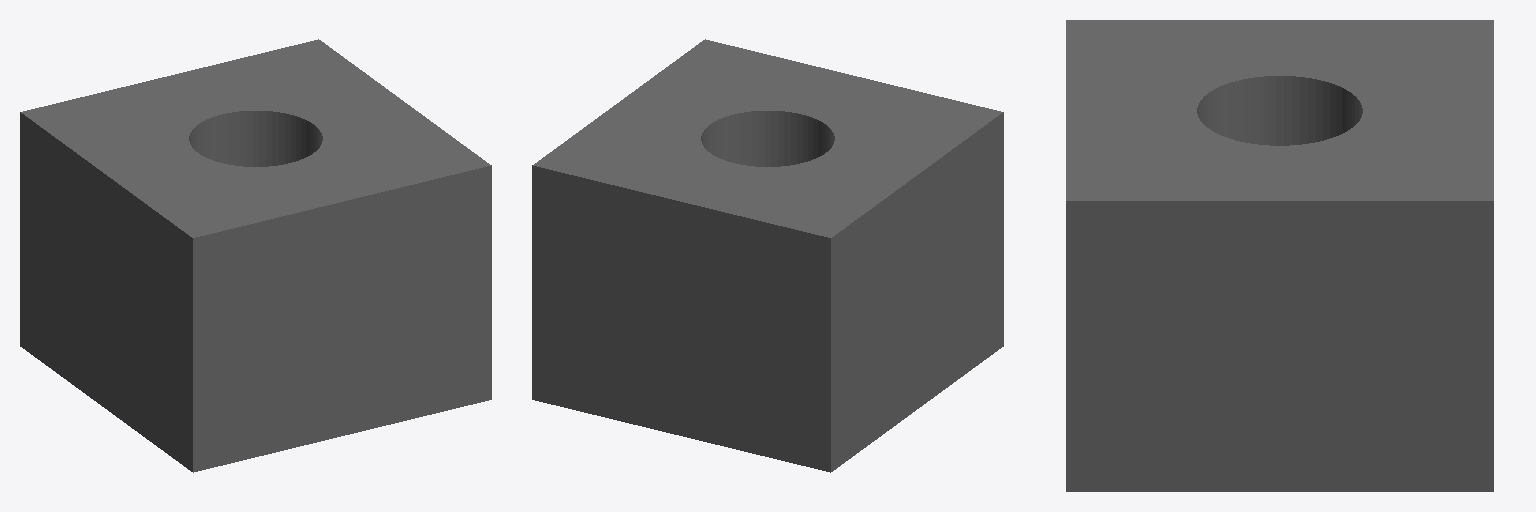
URDF robot description (fmb_circle_hole_tol0p5mm):
<?xml version="1.0"?>
<!-- Hole block for fmb_circle_peg: 80 x 80 mm, 10 mm base + 50 mm walls, hole = peg section offset by 0.5 mm per side. Generated by FoundationTouch tools/fmb_insertion/make_fmb_insertion_assets.py -->
<robot name="fmb_circle_hole_tol0p5mm">
  <material name="c"><color rgba="0.4706 0.4706 0.4706 1.0"/></material>
  <link name="hole">
    <visual><origin xyz="0 0 0" rpy="0 0 0"/><geometry><mesh filename="hole_visual.obj" scale="1 1 1"/></geometry><material name="c"/></visual>
    <collision><origin xyz="0 0 0.0050" rpy="0 0 0"/><geometry><box size="0.08 0.08 0.01"/></geometry></collision>
    <collision><origin xyz="0 0 0" rpy="0 0 0"/><geometry><mesh filename="hole_coll_000.obj" scale="1 1 1"/></geometry></collision>
    <collision><origin xyz="0 0 0" rpy="0 0 0"/><geometry><mesh filename="hole_coll_001.obj" scale="1 1 1"/></geometry></collision>
    <collision><origin xyz="0 0 0" rpy="0 0 0"/><geometry><mesh filename="hole_coll_002.obj" scale="1 1 1"/></geometry></collision>
    <collision><origin xyz="0 0 0" rpy="0 0 0"/><geometry><mesh filename="hole_coll_003.obj" scale="1 1 1"/></geometry></collision>
    <collision><origin xyz="0 0 0" rpy="0 0 0"/><geometry><mesh filename="hole_coll_004.obj" scale="1 1 1"/></geometry></collision>
    <collision><origin xyz="0 0 0" rpy="0 0 0"/><geometry><mesh filename="hole_coll_005.obj" scale="1 1 1"/></geometry></collision>
    <collision><origin xyz="0 0 0" rpy="0 0 0"/><geometry><mesh filename="hole_coll_006.obj" scale="1 1 1"/></geometry></collision>
    <collision><origin xyz="0 0 0" rpy="0 0 0"/><geometry><mesh filename="hole_coll_007.obj" scale="1 1 1"/></geometry></collision>
    <collision><origin xyz="0 0 0" rpy="0 0 0"/><geometry><mesh filename="hole_coll_008.obj" scale="1 1 1"/></geometry></collision>
    <collision><origin xyz="0 0 0" rpy="0 0 0"/><geometry><mesh filename="hole_coll_009.obj" scale="1 1 1"/></geometry></collision>
    <collision><origin xyz="0 0 0" rpy="0 0 0"/><geometry><mesh filename="hole_coll_010.obj" scale="1 1 1"/></geometry></collision>
    <collision><origin xyz="0 0 0" rpy="0 0 0"/><geometry><mesh filename="hole_coll_011.obj" scale="1 1 1"/></geometry></collision>
    <collision><origin xyz="0 0 0" rpy="0 0 0"/><geometry><mesh filename="hole_coll_012.obj" scale="1 1 1"/></geometry></collision>
    <collision><origin xyz="0 0 0" rpy="0 0 0"/><geometry><mesh filename="hole_coll_013.obj" scale="1 1 1"/></geometry></collision>
    <collision><origin xyz="0 0 0" rpy="0 0 0"/><geometry><mesh filename="hole_coll_014.obj" scale="1 1 1"/></geometry></collision>
    <collision><origin xyz="0 0 0" rpy="0 0 0"/><geometry><mesh filename="hole_coll_015.obj" scale="1 1 1"/></geometry></collision>
    <collision><origin xyz="0 0 0" rpy="0 0 0"/><geometry><mesh filename="hole_coll_016.obj" scale="1 1 1"/></geometry></collision>
    <collision><origin xyz="0 0 0" rpy="0 0 0"/><geometry><mesh filename="hole_coll_017.obj" scale="1 1 1"/></geometry></collision>
    <collision><origin xyz="0 0 0" rpy="0 0 0"/><geometry><mesh filename="hole_coll_018.obj" scale="1 1 1"/></geometry></collision>
    <collision><origin xyz="0 0 0" rpy="0 0 0"/><geometry><mesh filename="hole_coll_019.obj" scale="1 1 1"/></geometry></collision>
    <collision><origin xyz="0 0 0" rpy="0 0 0"/><geometry><mesh filename="hole_coll_020.obj" scale="1 1 1"/></geometry></collision>
    <collision><origin xyz="0 0 0" rpy="0 0 0"/><geometry><mesh filename="hole_coll_021.obj" scale="1 1 1"/></geometry></collision>
    <collision><origin xyz="0 0 0" rpy="0 0 0"/><geometry><mesh filename="hole_coll_022.obj" scale="1 1 1"/></geometry></collision>
    <collision><origin xyz="0 0 0" rpy="0 0 0"/><geometry><mesh filename="hole_coll_023.obj" scale="1 1 1"/></geometry></collision>
    <collision><origin xyz="0 0 0" rpy="0 0 0"/><geometry><mesh filename="hole_coll_024.obj" scale="1 1 1"/></geometry></collision>
    <collision><origin xyz="0 0 0" rpy="0 0 0"/><geometry><mesh filename="hole_coll_025.obj" scale="1 1 1"/></geometry></collision>
    <collision><origin xyz="0 0 0" rpy="0 0 0"/><geometry><mesh filename="hole_coll_026.obj" scale="1 1 1"/></geometry></collision>
    <collision><origin xyz="0 0 0" rpy="0 0 0"/><geometry><mesh filename="hole_coll_027.obj" scale="1 1 1"/></geometry></collision>
    <collision><origin xyz="0 0 0" rpy="0 0 0"/><geometry><mesh filename="hole_coll_028.obj" scale="1 1 1"/></geometry></collision>
    <collision><origin xyz="0 0 0" rpy="0 0 0"/><geometry><mesh filename="hole_coll_029.obj" scale="1 1 1"/></geometry></collision>
    <collision><origin xyz="0 0 0" rpy="0 0 0"/><geometry><mesh filename="hole_coll_030.obj" scale="1 1 1"/></geometry></collision>
    <collision><origin xyz="0 0 0" rpy="0 0 0"/><geometry><mesh filename="hole_coll_031.obj" scale="1 1 1"/></geometry></collision>
    <collision><origin xyz="0 0 0" rpy="0 0 0"/><geometry><mesh filename="hole_coll_032.obj" scale="1 1 1"/></geometry></collision>
    <collision><origin xyz="0 0 0" rpy="0 0 0"/><geometry><mesh filename="hole_coll_033.obj" scale="1 1 1"/></geometry></collision>
    <collision><origin xyz="0 0 0" rpy="0 0 0"/><geometry><mesh filename="hole_coll_034.obj" scale="1 1 1"/></geometry></collision>
    <collision><origin xyz="0 0 0" rpy="0 0 0"/><geometry><mesh filename="hole_coll_035.obj" scale="1 1 1"/></geometry></collision>
    <collision><origin xyz="0 0 0" rpy="0 0 0"/><geometry><mesh filename="hole_coll_036.obj" scale="1 1 1"/></geometry></collision>
    <collision><origin xyz="0 0 0" rpy="0 0 0"/><geometry><mesh filename="hole_coll_037.obj" scale="1 1 1"/></geometry></collision>
    <collision><origin xyz="0 0 0" rpy="0 0 0"/><geometry><mesh filename="hole_coll_038.obj" scale="1 1 1"/></geometry></collision>
    <collision><origin xyz="0 0 0" rpy="0 0 0"/><geometry><mesh filename="hole_coll_039.obj" scale="1 1 1"/></geometry></collision>
    <collision><origin xyz="0 0 0" rpy="0 0 0"/><geometry><mesh filename="hole_coll_040.obj" scale="1 1 1"/></geometry></collision>
    <collision><origin xyz="0 0 0" rpy="0 0 0"/><geometry><mesh filename="hole_coll_041.obj" scale="1 1 1"/></geometry></collision>
    <collision><origin xyz="0 0 0" rpy="0 0 0"/><geometry><mesh filename="hole_coll_042.obj" scale="1 1 1"/></geometry></collision>
    <collision><origin xyz="0 0 0" rpy="0 0 0"/><geometry><mesh filename="hole_coll_043.obj" scale="1 1 1"/></geometry></collision>
    <collision><origin xyz="0 0 0" rpy="0 0 0"/><geometry><mesh filename="hole_coll_044.obj" scale="1 1 1"/></geometry></collision>
    <collision><origin xyz="0 0 0" rpy="0 0 0"/><geometry><mesh filename="hole_coll_045.obj" scale="1 1 1"/></geometry></collision>
    <collision><origin xyz="0 0 0" rpy="0 0 0"/><geometry><mesh filename="hole_coll_046.obj" scale="1 1 1"/></geometry></collision>
    <collision><origin xyz="0 0 0" rpy="0 0 0"/><geometry><mesh filename="hole_coll_047.obj" scale="1 1 1"/></geometry></collision>
    <collision><origin xyz="0 0 0" rpy="0 0 0"/><geometry><mesh filename="hole_coll_048.obj" scale="1 1 1"/></geometry></collision>
    <collision><origin xyz="0 0 0" rpy="0 0 0"/><geometry><mesh filename="hole_coll_049.obj" scale="1 1 1"/></geometry></collision>
    <collision><origin xyz="0 0 0" rpy="0 0 0"/><geometry><mesh filename="hole_coll_050.obj" scale="1 1 1"/></geometry></collision>
    <collision><origin xyz="0 0 0" rpy="0 0 0"/><geometry><mesh filename="hole_coll_051.obj" scale="1 1 1"/></geometry></collision>
    <collision><origin xyz="0 0 0" rpy="0 0 0"/><geometry><mesh filename="hole_coll_052.obj" scale="1 1 1"/></geometry></collision>
    <collision><origin xyz="0 0 0" rpy="0 0 0"/><geometry><mesh filename="hole_coll_053.obj" scale="1 1 1"/></geometry></collision>
    <collision><origin xyz="0 0 0" rpy="0 0 0"/><geometry><mesh filename="hole_coll_054.obj" scale="1 1 1"/></geometry></collision>
    <collision><origin xyz="0 0 0" rpy="0 0 0"/><geometry><mesh filename="hole_coll_055.obj" scale="1 1 1"/></geometry></collision>
    <collision><origin xyz="0 0 0" rpy="0 0 0"/><geometry><mesh filename="hole_coll_056.obj" scale="1 1 1"/></geometry></collision>
    <collision><origin xyz="0 0 0" rpy="0 0 0"/><geometry><mesh filename="hole_coll_057.obj" scale="1 1 1"/></geometry></collision>
    <collision><origin xyz="0 0 0" rpy="0 0 0"/><geometry><mesh filename="hole_coll_058.obj" scale="1 1 1"/></geometry></collision>
    <collision><origin xyz="0 0 0" rpy="0 0 0"/><geometry><mesh filename="hole_coll_059.obj" scale="1 1 1"/></geometry></collision>
    <collision><origin xyz="0 0 0" rpy="0 0 0"/><geometry><mesh filename="hole_coll_060.obj" scale="1 1 1"/></geometry></collision>
    <collision><origin xyz="0 0 0" rpy="0 0 0"/><geometry><mesh filename="hole_coll_061.obj" scale="1 1 1"/></geometry></collision>
    <collision><origin xyz="0 0 0" rpy="0 0 0"/><geometry><mesh filename="hole_coll_062.obj" scale="1 1 1"/></geometry></collision>
    <inertial><mass value="10.0"/><origin xyz="0 0 0.055" rpy="0 0 0"/><inertia ixx="0.1" ixy="0" ixz="0" iyy="0.1" iyz="0" izz="0.1"/></inertial>
  </link>
</robot>

--- What the picture shows (computed from the rendered views, not written in the file) ---
3 views of the same robot in one strip: view 1: azimuth 30°, elevation 25°; view 2: azimuth 150°, elevation 25°; view 3: azimuth 270°, elevation 25° (orthographic).
Model fmb_circle_hole_tol0p5mm with 1 links and 0 joints (none), rooted at hole, posed every joint at zero.
Links seen in each view (by area): view 1: hole; view 2: hole; view 3: hole.
Link boxes in pixels (x1,y1,x2,y2): hole: (20,39,491,472); hole: (532,39,1003,472); hole: (1066,20,1493,491).
Bounding box of the posed robot: 0.08 × 0.08 × 0.06 m (x, y, z).
1 mesh visuals loaded from 1 distinct referenced files (1 OBJ).
